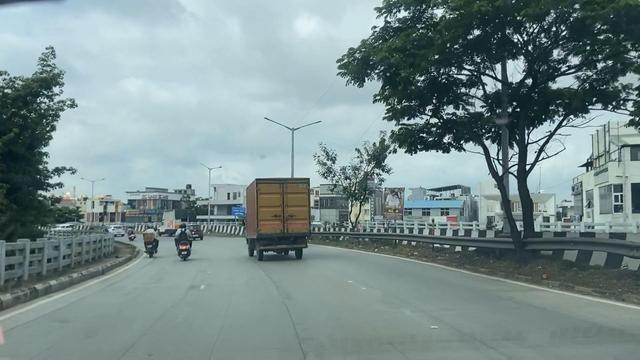HMV: (251, 169, 310, 260)
LMV: (174, 223, 198, 261), (135, 225, 161, 259)
